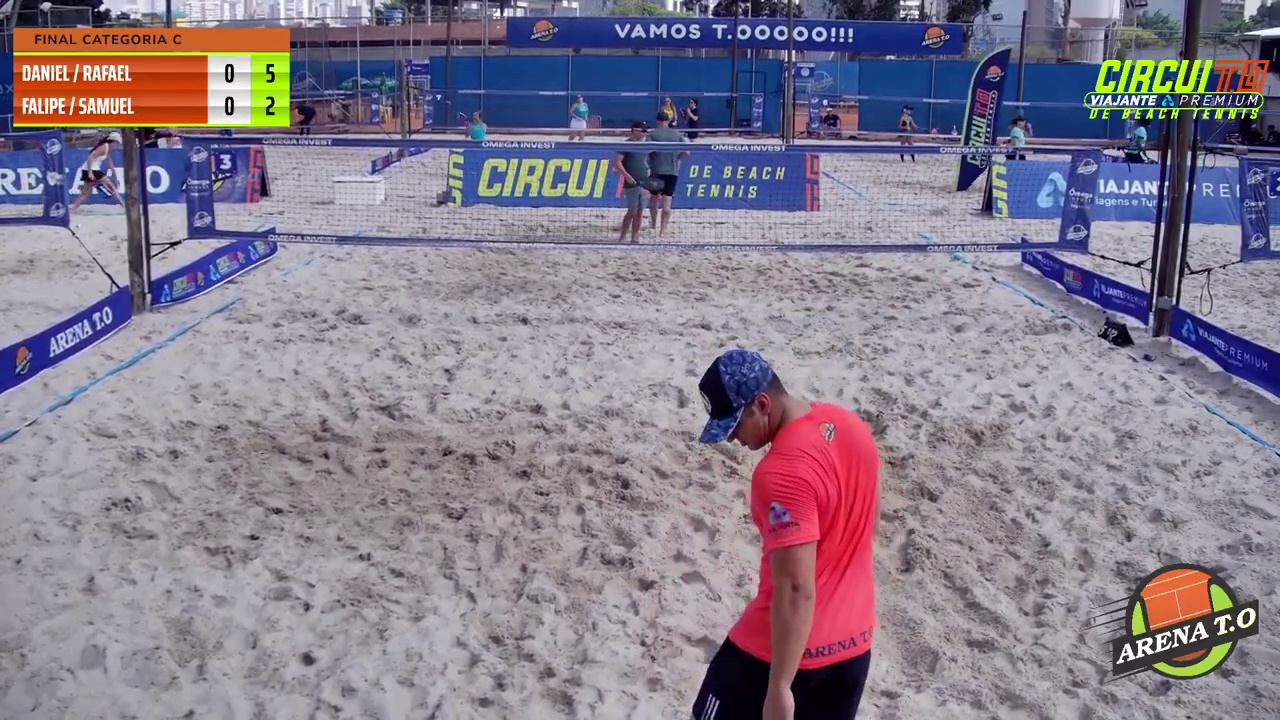court_line: (641, 0, 805, 473)
